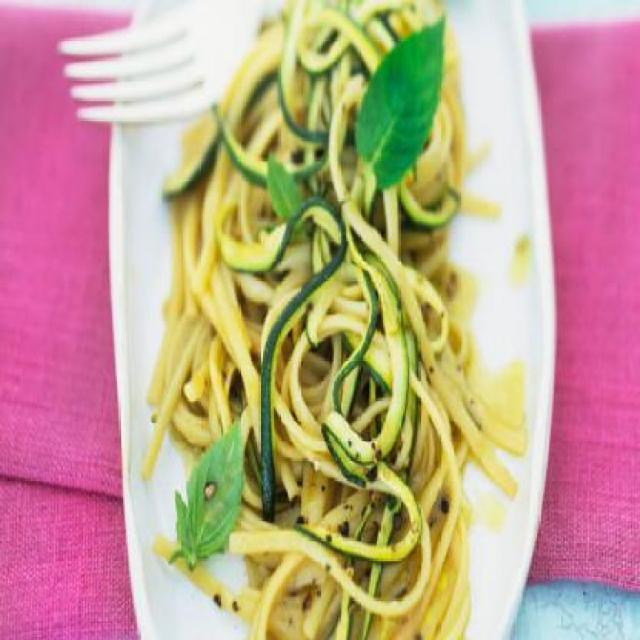Oil pasta: (199, 29, 513, 631)
